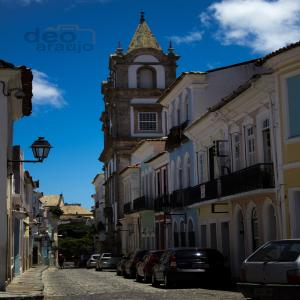Vehicle-registration-plate: (194, 265, 211, 270)
